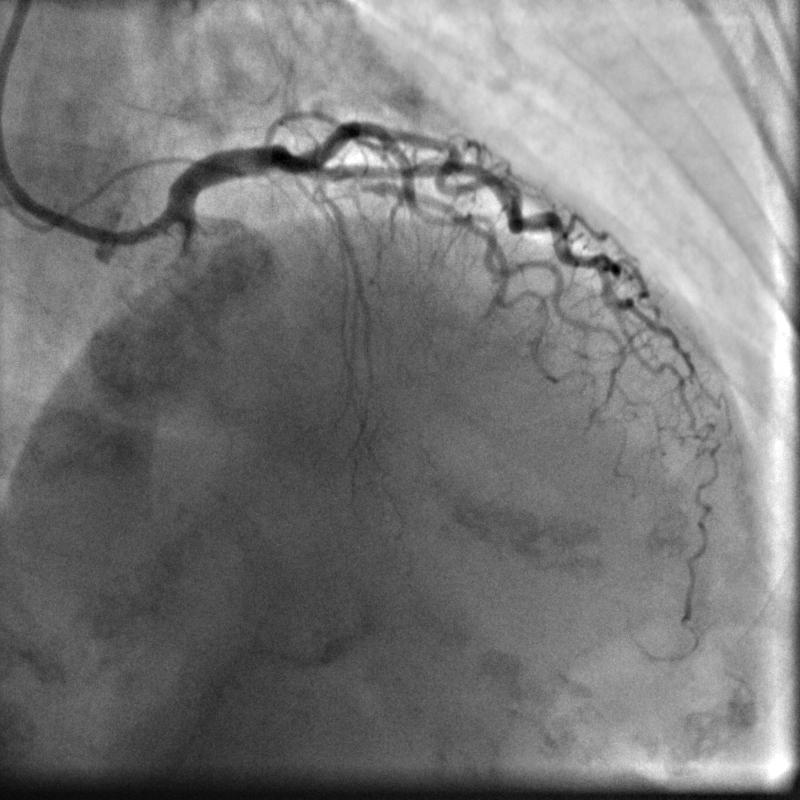Stenosis: (355, 174, 388, 192)
